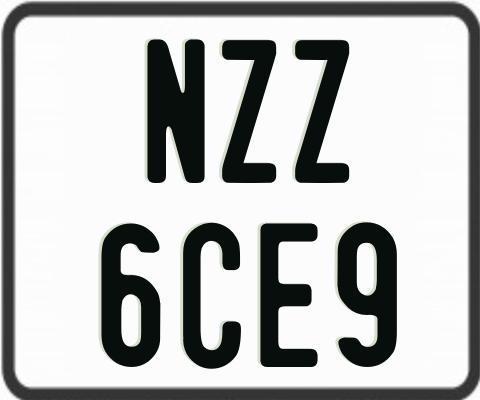6: (98, 222, 160, 372)
9: (334, 222, 398, 373)
C: (181, 223, 240, 369)
E: (257, 222, 320, 368)
N: (145, 36, 204, 185)
Z: (294, 39, 350, 184), (221, 40, 276, 183)
